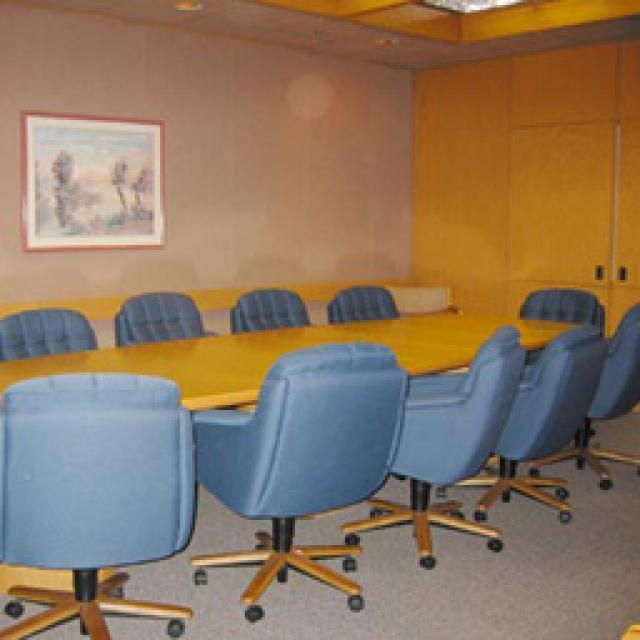2001: (92, 102, 142, 242)
door bars: (332, 355, 395, 440)
